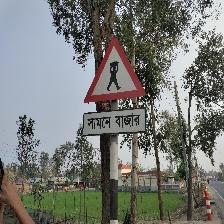Market-in-front: (82, 36, 148, 139)
